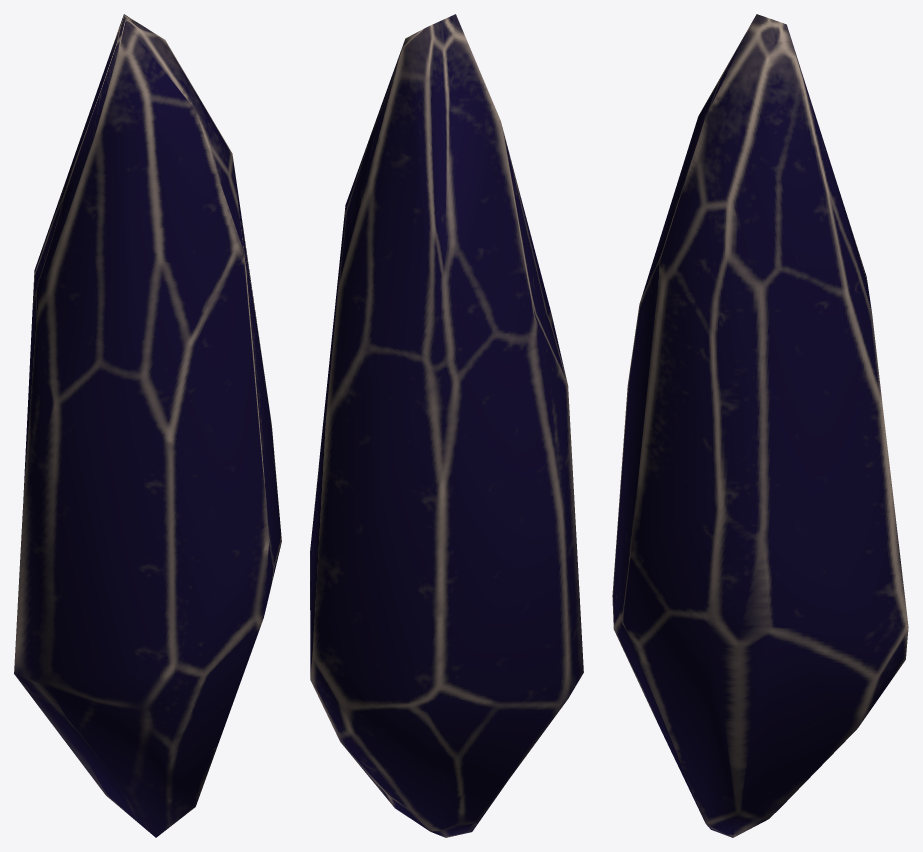
Rendered from shuijin001.FBX.
The picture shows the model from 3 angles, left to right: view 1: azimuth 30°, elevation 25°; view 2: azimuth 150°, elevation 25°; view 3: azimuth 270°, elevation 25°; orthographic projection. The views are drawn at different scales.
Parts seen in each view (by area): view 1: dcsi01_model_02_sj_01; view 2: dcsi01_model_02_sj_01; view 3: dcsi01_model_02_sj_01.
Boxes of the visible parts, x1=… form: dcsi01_model_02_sj_01: x1=14, y1=14, x2=281, y2=837; dcsi01_model_02_sj_01: x1=310, y1=14, x2=583, y2=837; dcsi01_model_02_sj_01: x1=612, y1=14, x2=908, y2=837.
Bounding box in the file's own units: 0.3433 × 1.07 × 0.3527.
